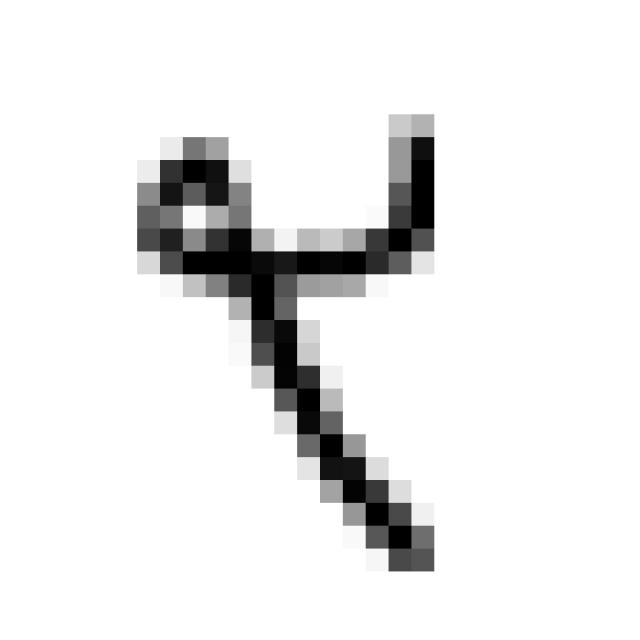3 -three-: (112, 100, 472, 586)
